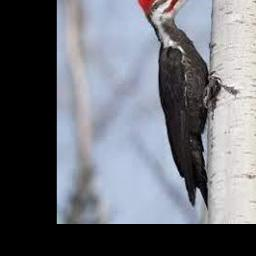Woodpecker: (137, 0, 218, 210)
